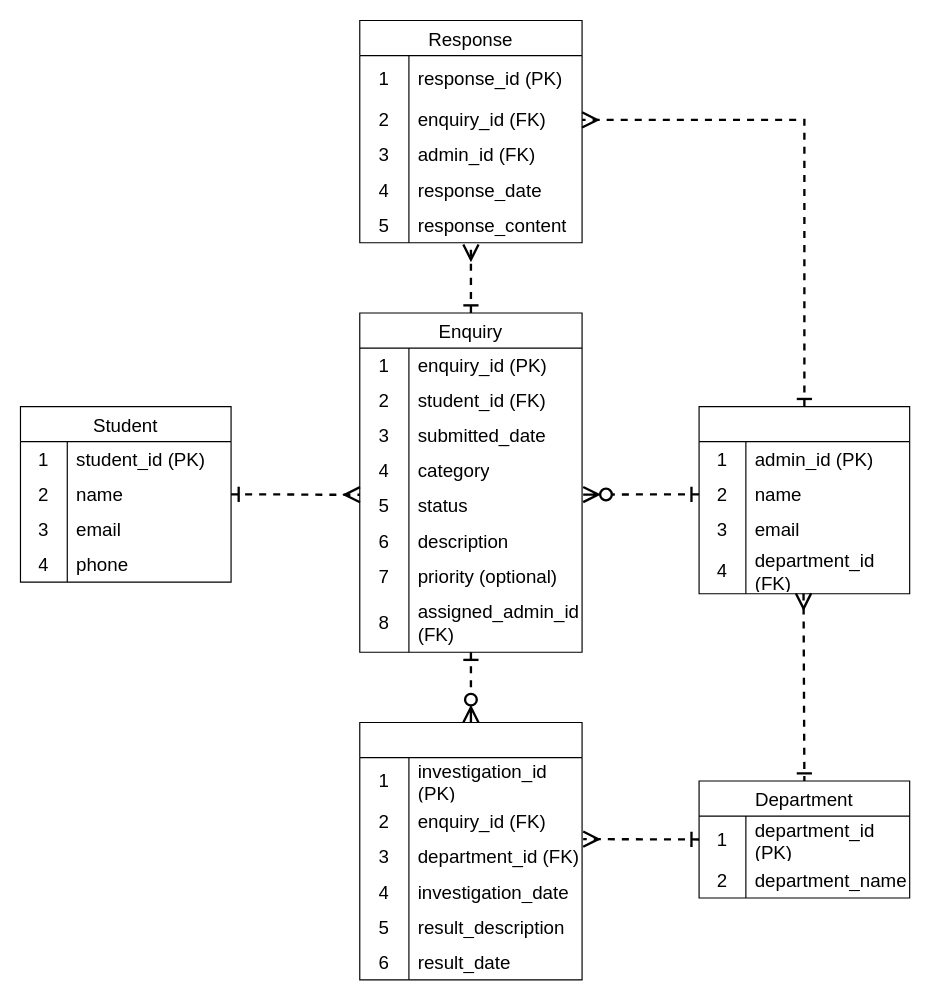
Some shapes in this 930 by 1000 pixel diagram are drawn without their labels. Here are the shapes that lost their labels. From the top down, the box of each, then its label:
(698, 405, 910, 594): Administrative_Officer
(359, 721, 582, 980): Case_Investigation
